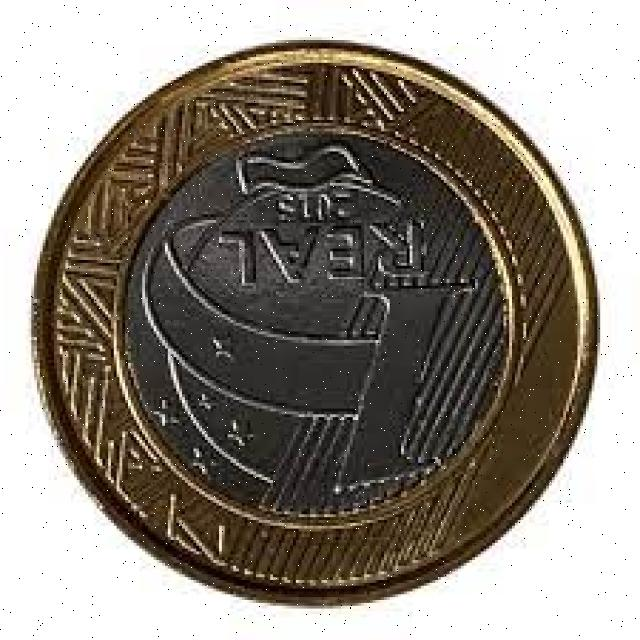1 real: (35, 46, 597, 605)
